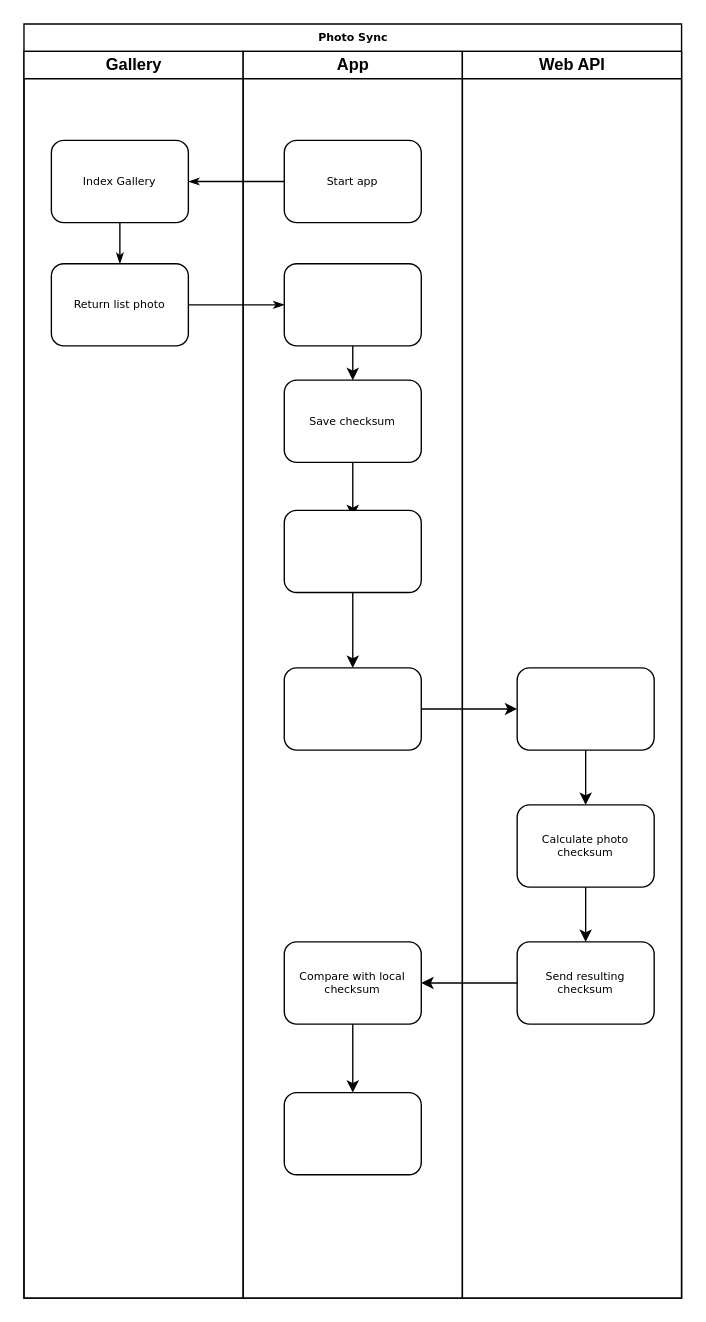
Some shapes in this 706 by 1322 pixel diagram are drawn without their labels. Each missing label, with the centre of its shape:
"Generate checksum for each photo" belongs at point (352, 304).
"If matched marked photo as synched" belongs at point (352, 1133).
"Save photo" belongs at point (585, 708).
"Start sync process" belongs at point (352, 551).
"Upload photos" belongs at point (352, 708).
